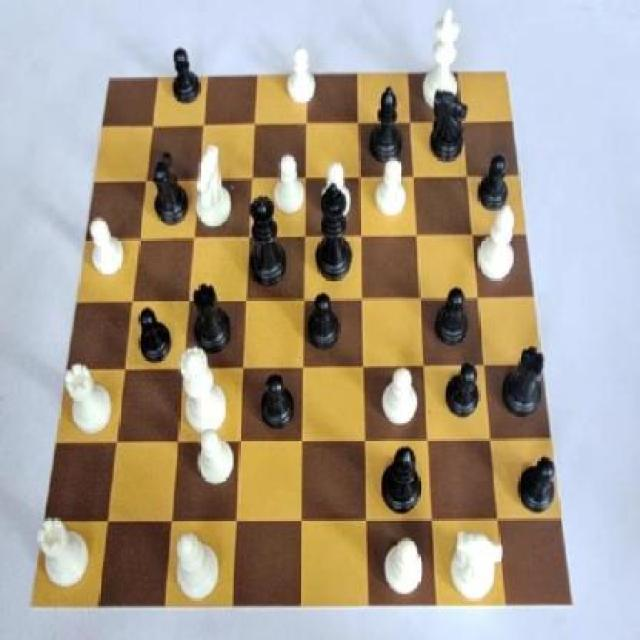bishop: (374, 443, 426, 518), (366, 82, 409, 170)
black-bishop: (306, 178, 360, 287)
black-king: (424, 83, 476, 173), (146, 148, 192, 232)
black-knight: (515, 448, 560, 530), (430, 288, 482, 354), (255, 368, 298, 444), (302, 292, 348, 363), (132, 305, 180, 372), (474, 148, 516, 223), (165, 45, 210, 109), (446, 362, 484, 426)
black-pawn: (245, 188, 296, 296)
black-queen: (186, 274, 236, 360), (502, 342, 550, 426)
black-rook: (168, 526, 222, 606), (477, 200, 521, 291)
white-bishop: (420, 3, 466, 115)
white-king: (189, 137, 241, 236), (448, 522, 505, 609)
white-knight: (378, 530, 430, 602), (83, 210, 134, 282), (374, 363, 423, 435), (192, 418, 238, 490), (371, 158, 418, 227), (280, 43, 326, 112), (269, 148, 307, 219), (316, 157, 354, 226)
white-pawn: (177, 339, 232, 436)
white-queen: (32, 511, 90, 594), (65, 360, 117, 443)
